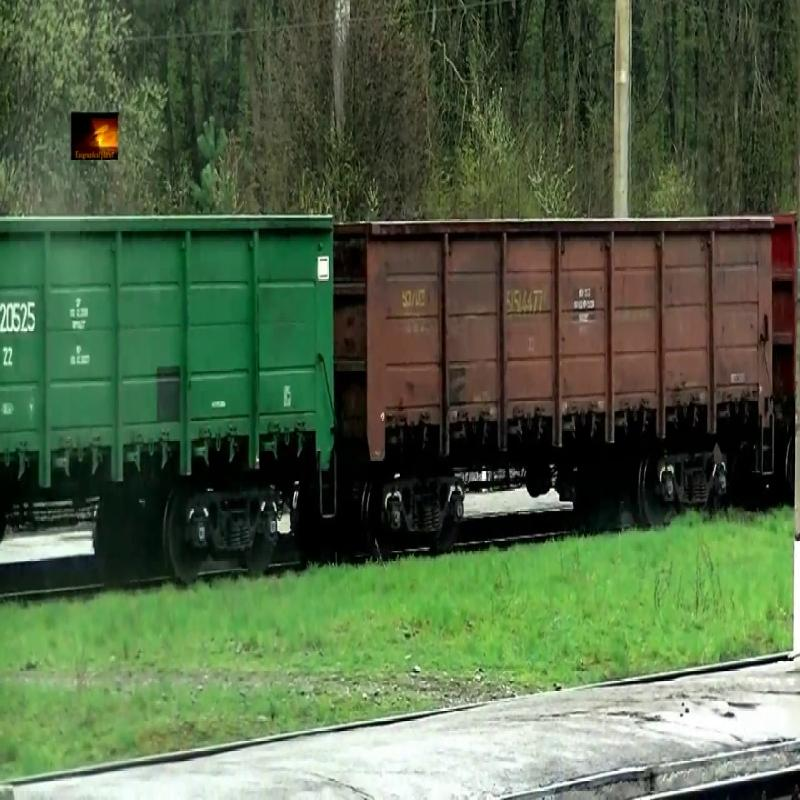train: (338, 218, 774, 467), (1, 215, 335, 499), (773, 216, 798, 426)
